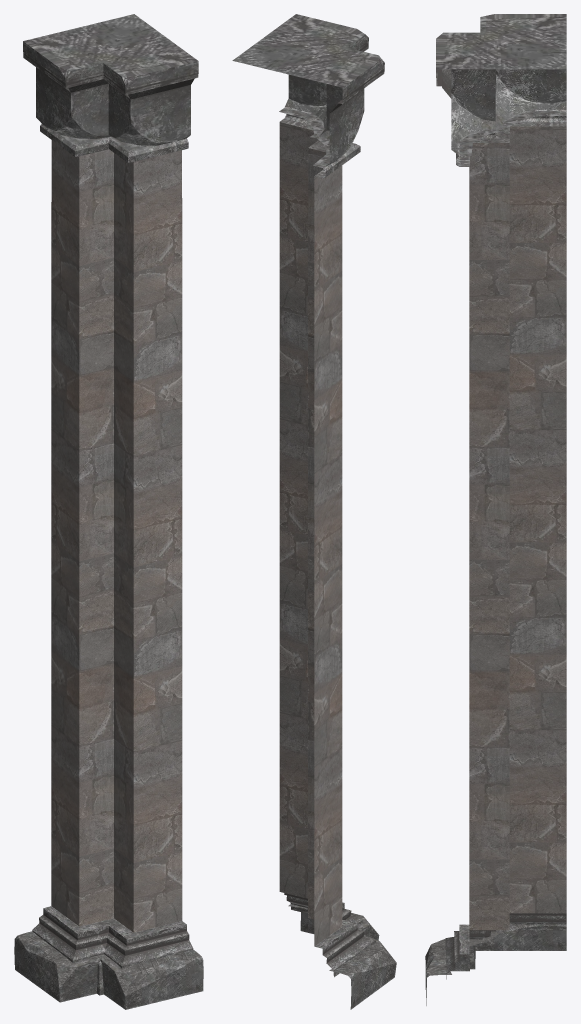
The picture shows the model from 3 angles, left to right: view 1: azimuth 30°, elevation 25°; view 2: azimuth 150°, elevation 25°; view 3: azimuth 270°, elevation 25°; orthographic projection. The views are drawn at different scales.
Parts seen in each view (by area): view 1: SM_DungeonSlope_Column_LOD0; view 2: SM_DungeonSlope_Column_LOD0; view 3: SM_DungeonSlope_Column_LOD0.
Part boxes in pixels (left/top/right/bottom): SM_DungeonSlope_Column_LOD0: left=14, top=14, right=203, bottom=1009; SM_DungeonSlope_Column_LOD0: left=232, top=14, right=396, bottom=1009; SM_DungeonSlope_Column_LOD0: left=425, top=14, right=566, bottom=1005.
Bounding box in the file's own units: 0.8158 × 6 × 0.8156.
2 materials, 2 textured.
